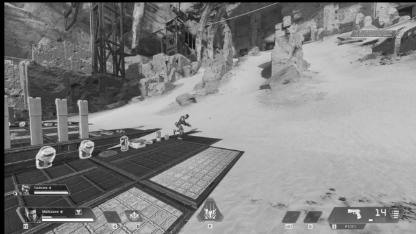Target: (174, 114, 188, 138)
